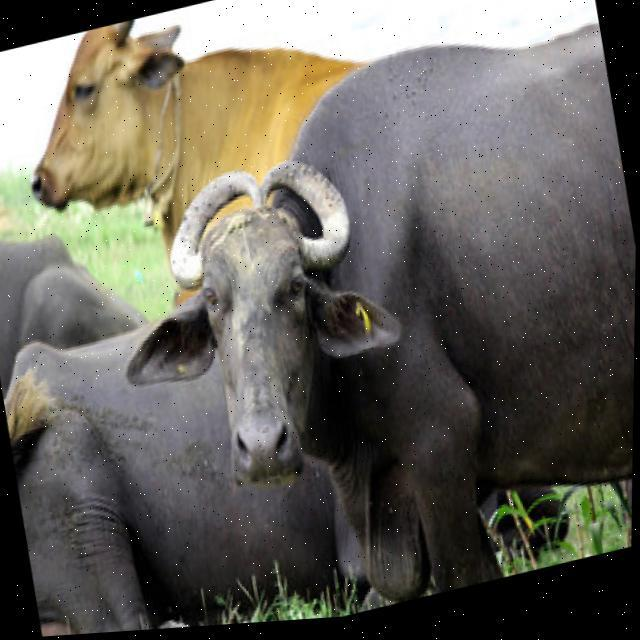Buffalo: (78, 0, 639, 634)
